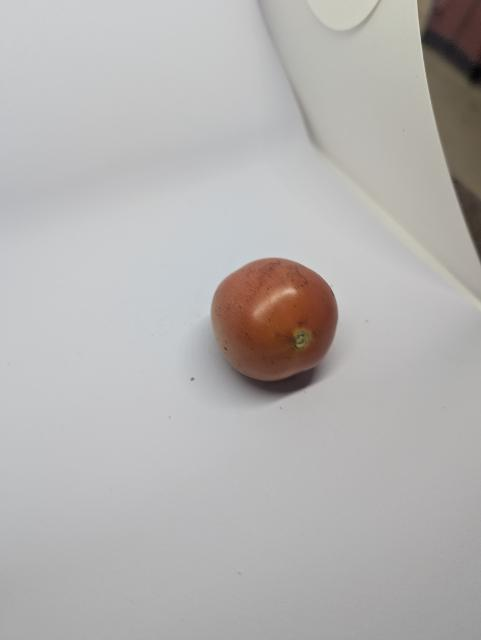red: (209, 250, 342, 395)
